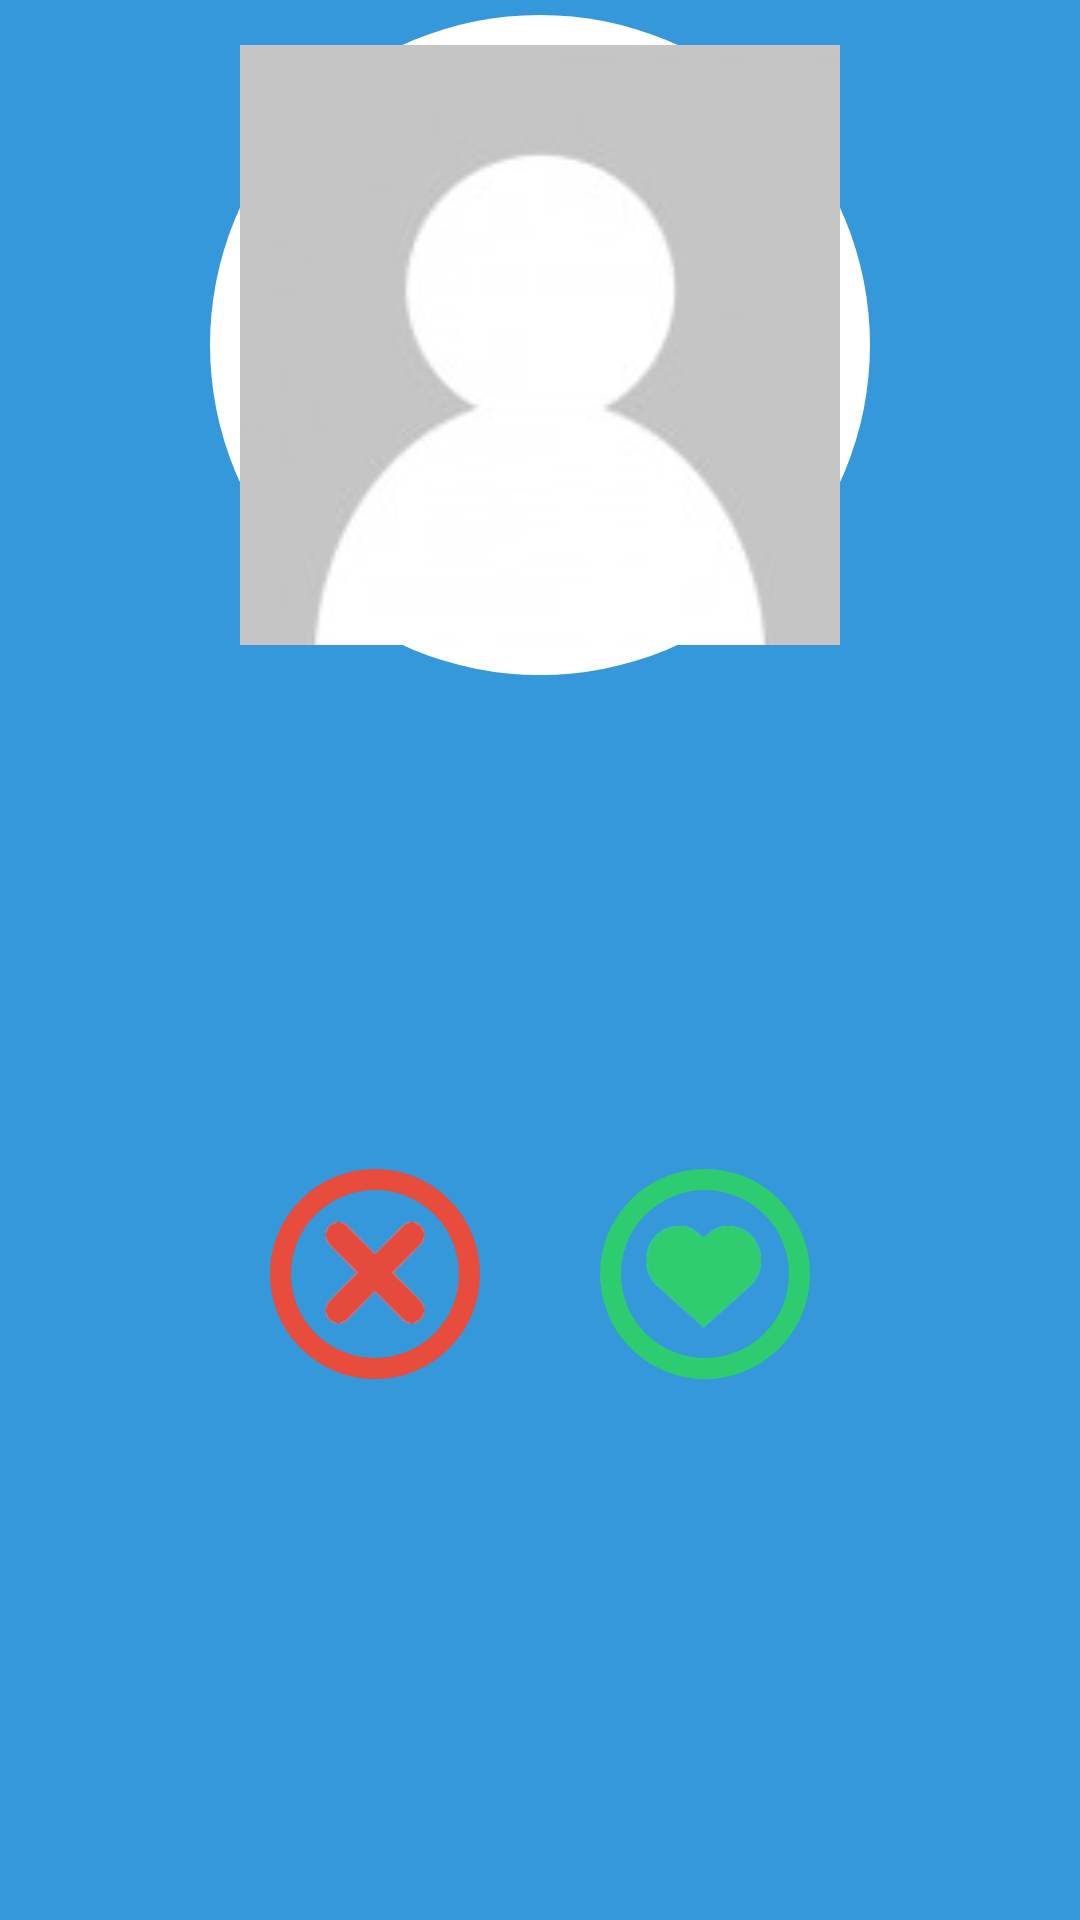

Named icons in this screenshot (1080px×1920px) and their centers, point (x, y):
heart: point (703, 1276)
nope: point (375, 1273)
